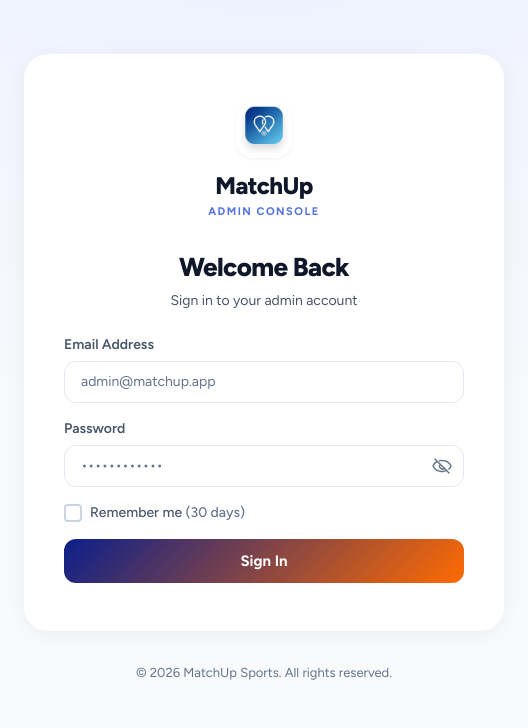
Test: LoginPage › shows a generic message for a non-AuthError failure
This screenshot has width=528, height=728.
Type "x@y.com" into the field with placeholder "admin@matchup.app" at (264, 382), box [64,361,464,403]
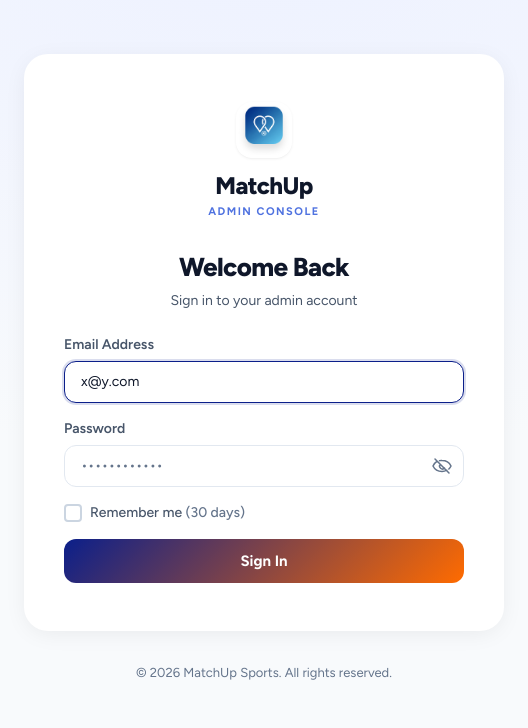
Type "pw" into the password field with placeholder "••••••••••••" at (264, 466), box [64,445,464,487]
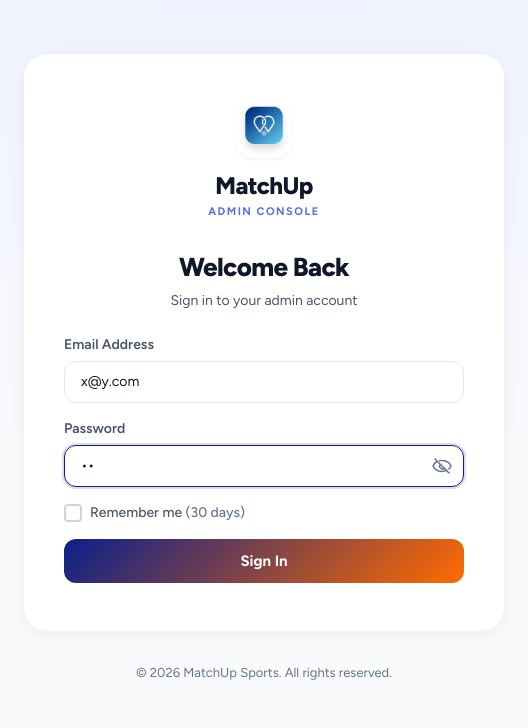
Click the button "Sign In" at (264, 561), box [64,539,464,583]
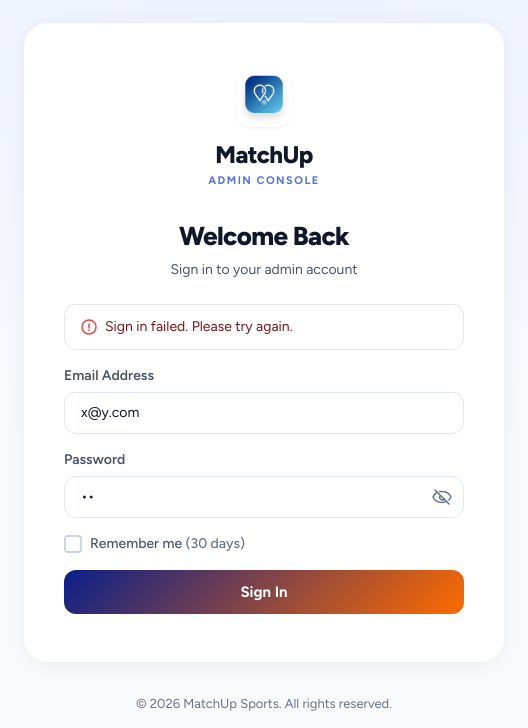
Expected: the text "Sign in failed. Please try again." is shown, [105,317,293,337]
